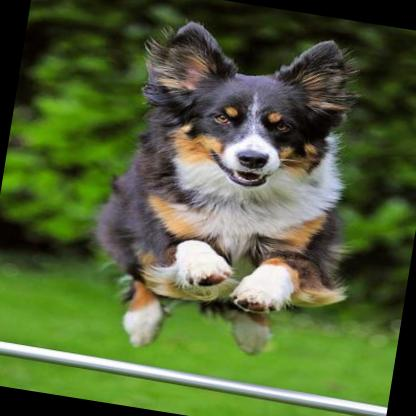Appenzeller: (77, 7, 384, 377)
